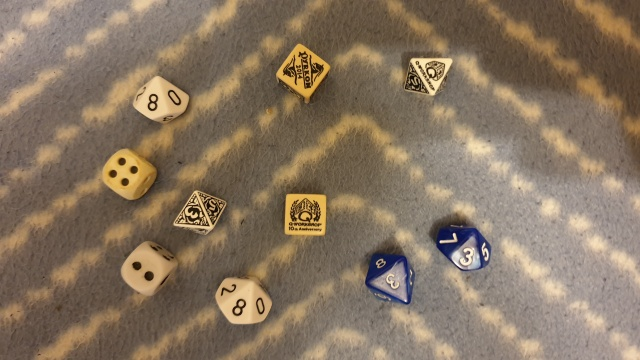d10-3: (432, 216, 501, 277), (362, 246, 424, 313)
d10-8: (125, 68, 197, 127), (211, 270, 279, 329)
d6-2: (114, 237, 184, 297)
d6-4: (99, 146, 160, 204)
d6p-1: (274, 40, 335, 110)
d6p-6: (282, 190, 331, 241)
d8-3: (171, 184, 230, 242)
d8-8: (401, 52, 456, 101)
